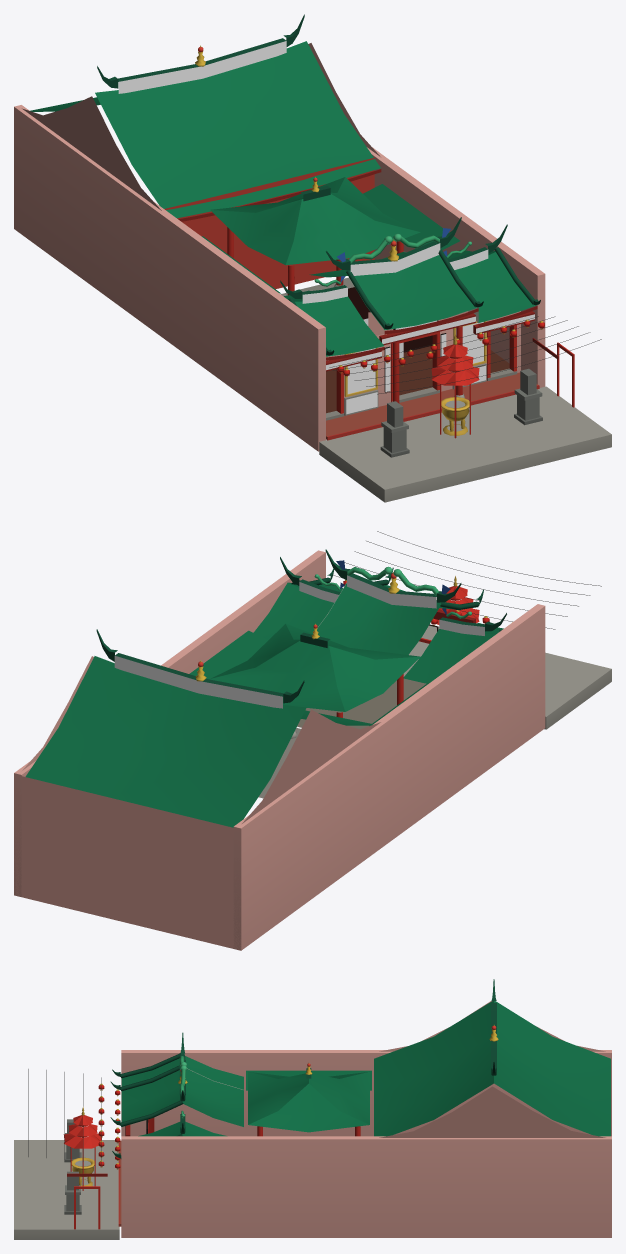
The model's file is temple.lod1.glb.
3 renders of one model, top to bottom at view 1: azimuth 30°, elevation 25°; view 2: azimuth 150°, elevation 25°; view 3: azimuth 270°, elevation 25°, orthographic. The views are drawn at different scales.
Parts seen in each view (by area): view 1: temple-lod1; view 2: temple-lod1; view 3: temple-lod1.
Part boxes in pixels (<box>): temple-lod1: <box>14,14,611,502</box>; temple-lod1: <box>14,531,611,950</box>; temple-lod1: <box>14,979,611,1239</box>.
Size of the model in its own units: 10.4 by 9.5 by 29.4.
